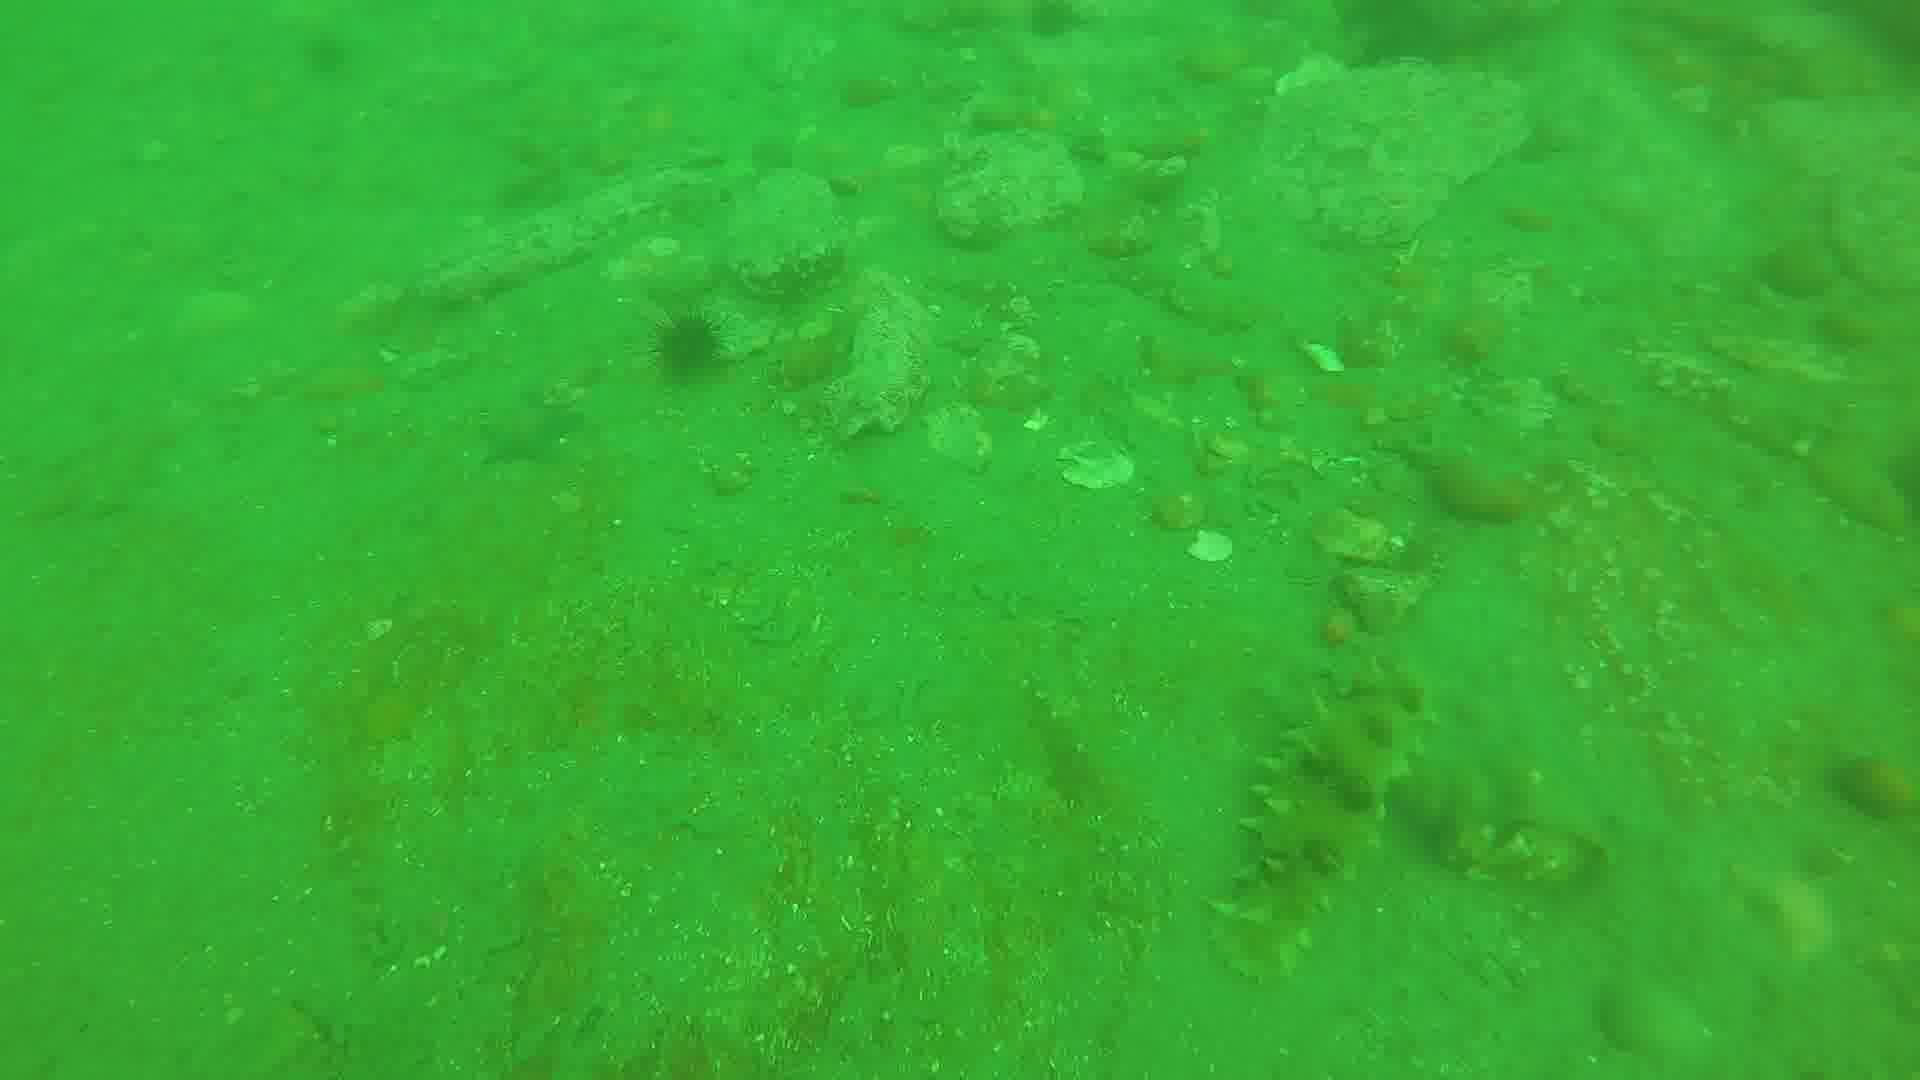echinus: (661, 315, 725, 381)
holothurian: (1224, 662, 1435, 985)
scallop: (1064, 425, 1141, 506), (1185, 527, 1241, 571)
starfish: (484, 398, 587, 463)
